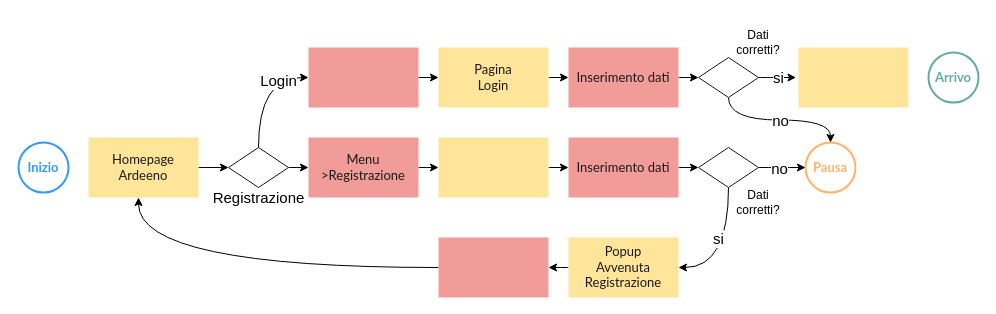
Image size: 996x314. Some labels were removed from this diagram. Each missing label, with the box of its shape:
Bivio: (228, 146, 288, 188)
Click su Torna alla HomePage: (438, 237, 548, 297)
Menu >Login: (308, 47, 418, 107)
Pagina Impianti Acquistati: (798, 47, 908, 107)
Pagina Registrazione: (438, 137, 548, 197)
